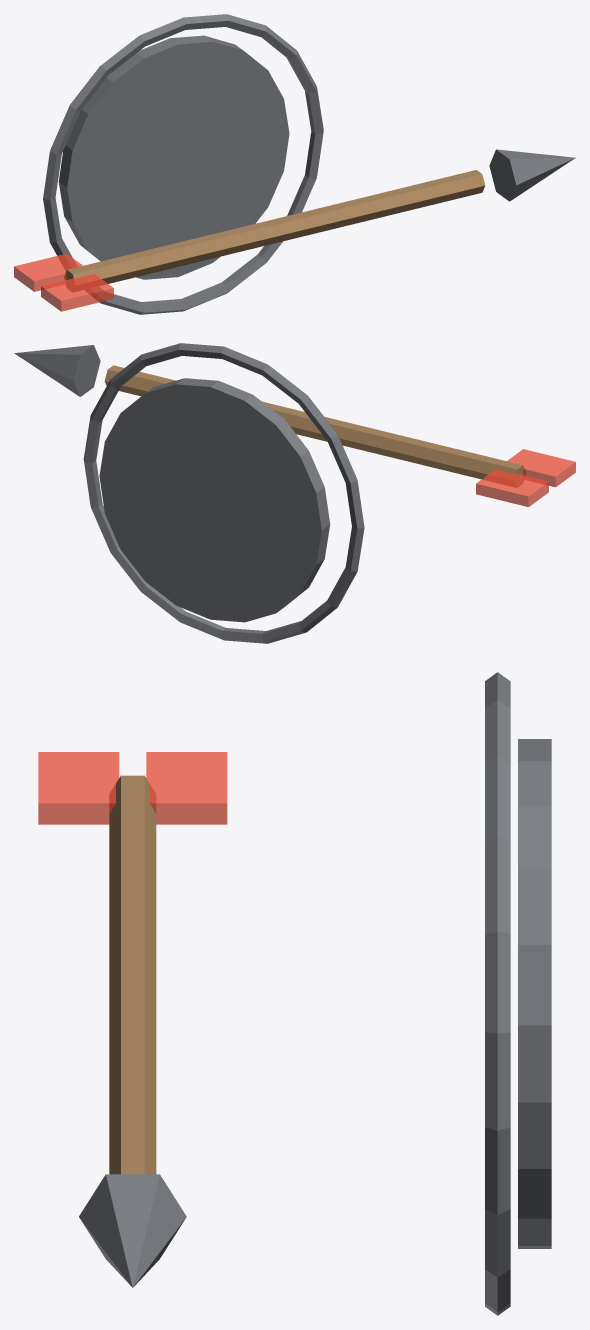
Rendered from 02_crossbow_bolt_projectile.glb.
The picture shows the model from 3 angles, top to bottom: view 1: azimuth 30°, elevation 25°; view 2: azimuth 150°, elevation 25°; view 3: azimuth 270°, elevation 25°; orthographic projection. The views are drawn at different scales.
Visible parts, largest first — view 1: base_disc, base_ring, shaft, tip, fletch_a, fletch_b; view 2: base_disc, base_ring, shaft, tip, fletch_b, fletch_a; view 3: shaft, base_disc, base_ring, tip, fletch_b, fletch_a.
Part boxes in pixels (<box>): base_disc: <box>58,35,289,279</box>; base_ring: <box>43,14,323,314</box>; shaft: <box>64,170,485,291</box>; tip: <box>489,149,575,201</box>; fletch_a: <box>41,274,113,311</box>; fletch_b: <box>14,253,82,291</box>; base_disc: <box>99,378,330,622</box>; base_ring: <box>83,343,364,643</box>; shaft: <box>104,365,525,487</box>; tip: <box>14,345,100,396</box>; fletch_b: <box>476,469,548,506</box>; fletch_a: <box>507,449,575,487</box>; shaft: <box>109,775,156,1174</box>; base_disc: <box>518,739,551,1248</box>; base_ring: <box>485,672,510,1315</box>; tip: <box>79,1174,186,1287</box>; fletch_b: <box>146,752,227,824</box>; fletch_a: <box>38,752,119,824</box>.
Bounding box in the file's own units: 1.84 × 0.96 × 0.76.
